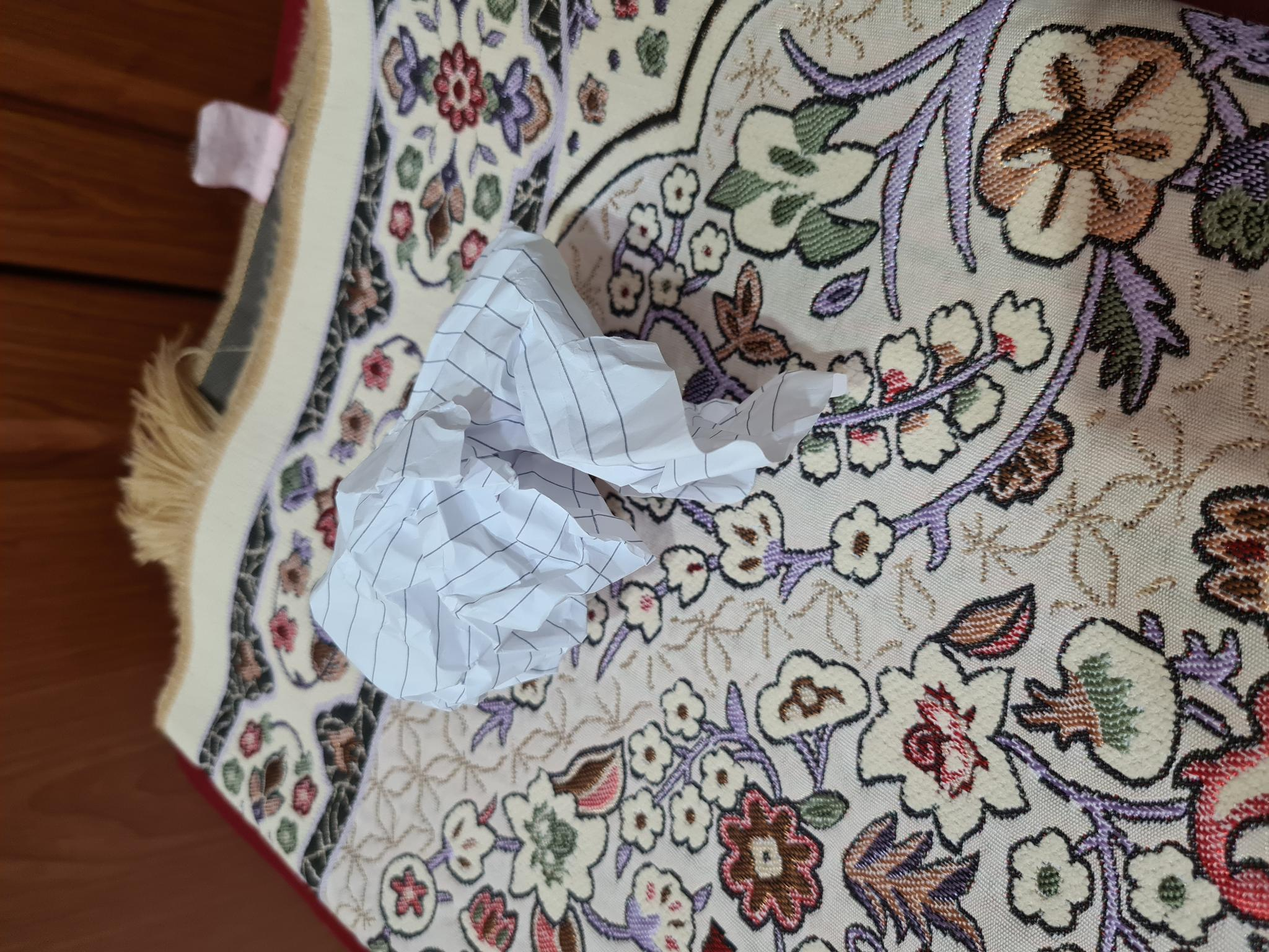Kertas: (239, 309, 735, 857)
